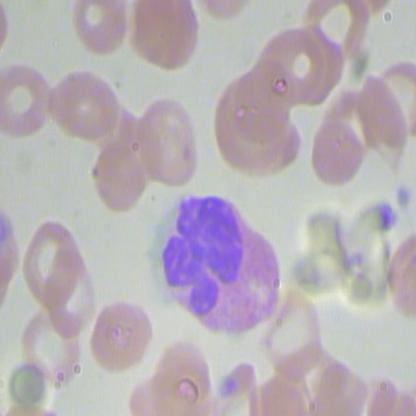RBC: (19, 303, 84, 396), (136, 94, 201, 186), (22, 218, 82, 309), (46, 67, 118, 141), (130, 1, 202, 74), (94, 300, 157, 378), (310, 116, 365, 189), (1, 62, 53, 139), (49, 256, 95, 335), (70, 1, 132, 56)
WBC: (156, 190, 285, 340)
